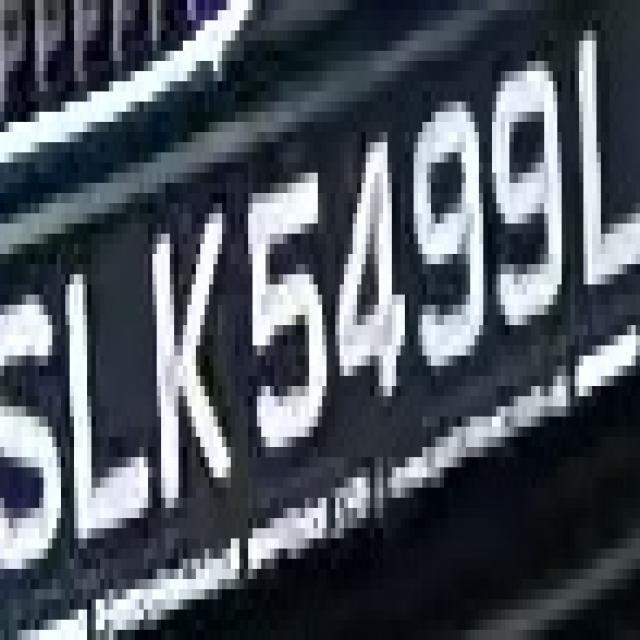4: (318, 102, 418, 447)
5: (231, 152, 331, 458)
9: (479, 41, 570, 366), (405, 101, 488, 376)
K: (135, 193, 235, 538)
L: (56, 203, 156, 569), (566, 10, 640, 305)
S: (4, 233, 61, 610)
